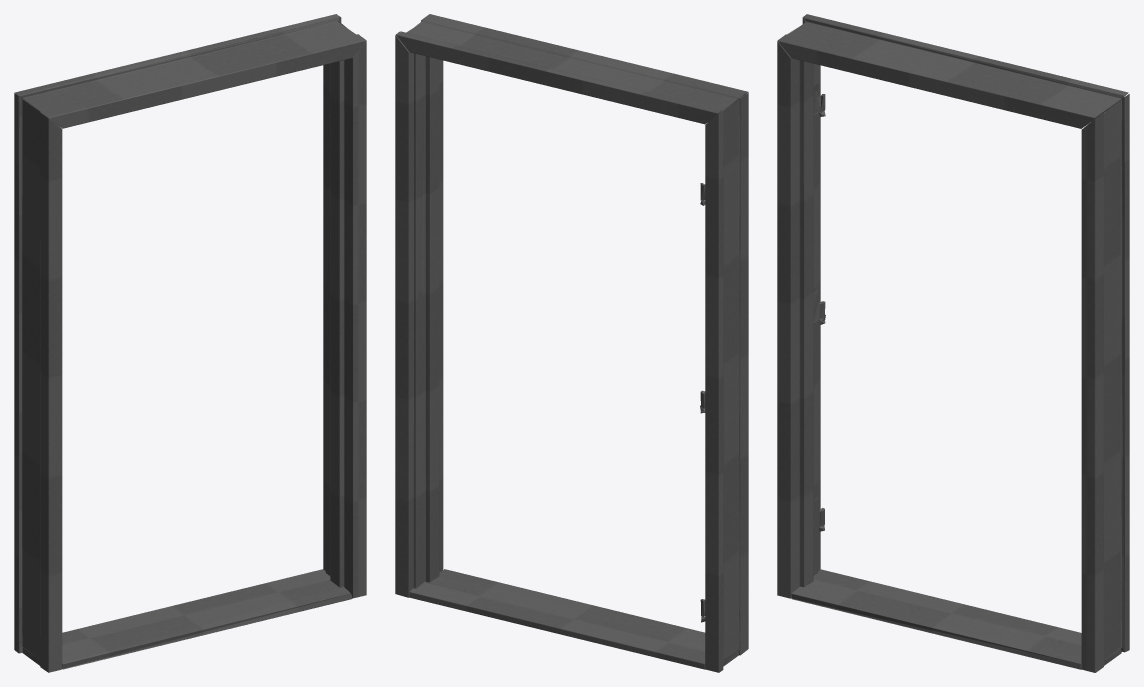
File: SM_BackDoor_A_Frame.glb
The picture shows the model from 3 angles, left to right: view 1: azimuth 30°, elevation 25°; view 2: azimuth 150°, elevation 25°; view 3: azimuth 330°, elevation 25°; orthographic projection.
Visible parts, largest first — view 1: SM_BackDoor_A_Frame; view 2: SM_BackDoor_A_Frame; view 3: SM_BackDoor_A_Frame.
Boxes of the visible parts, box(x1,y1,x2,y2) form: SM_BackDoor_A_Frame: box(14, 14, 366, 672); SM_BackDoor_A_Frame: box(395, 14, 748, 672); SM_BackDoor_A_Frame: box(777, 14, 1129, 672).
Size of the model in its own units: 139 by 230 by 24.04.
1 material, 1 textured.
